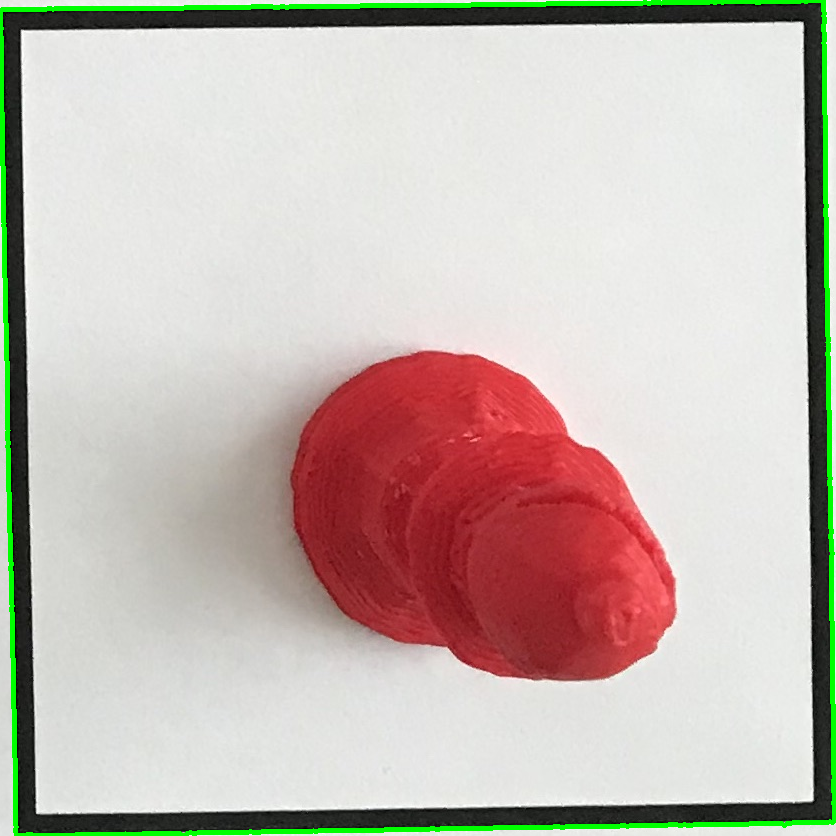Red Bishop: (270, 334, 693, 712)
